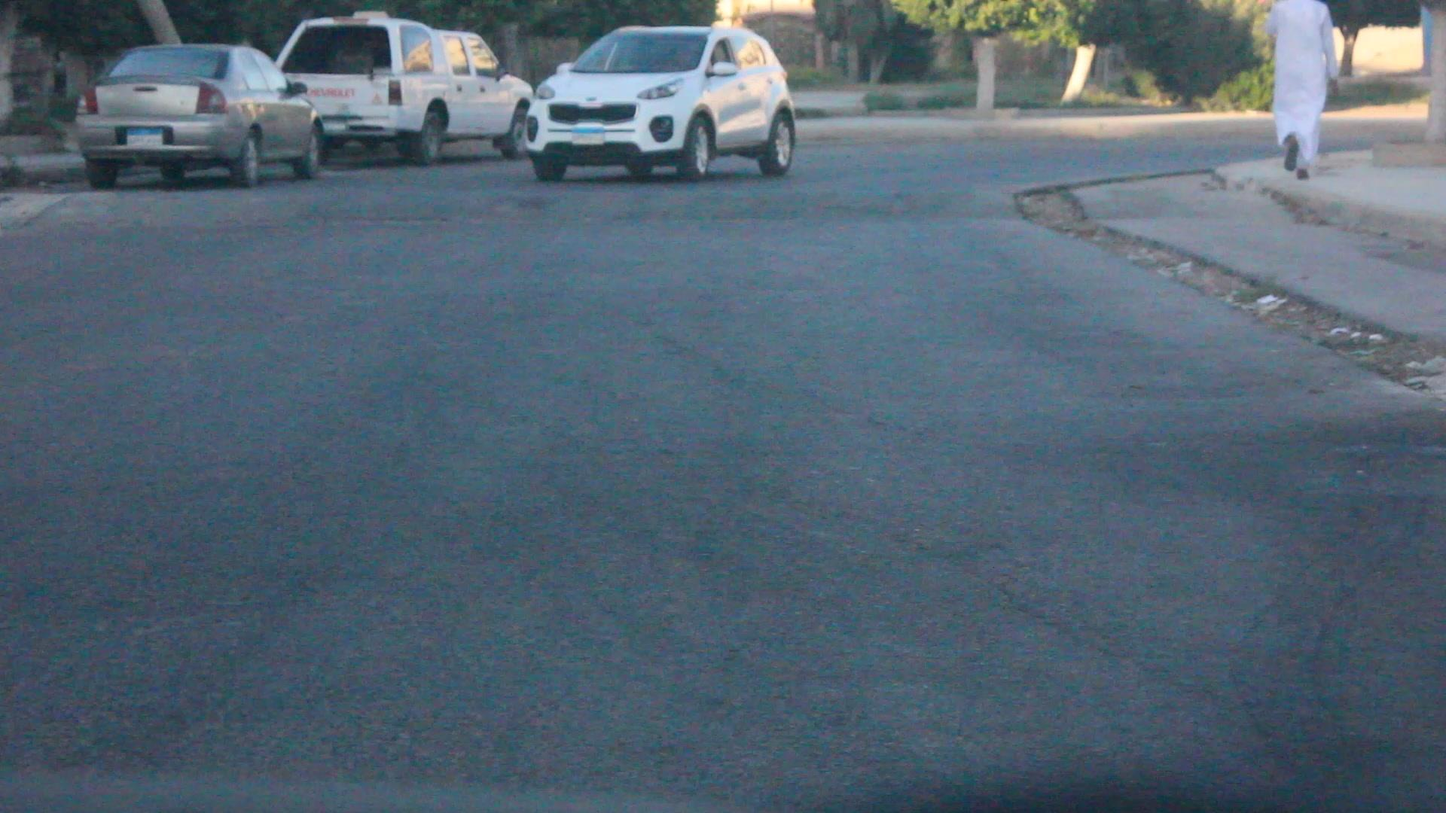Bump: (36, 166, 1073, 222)
